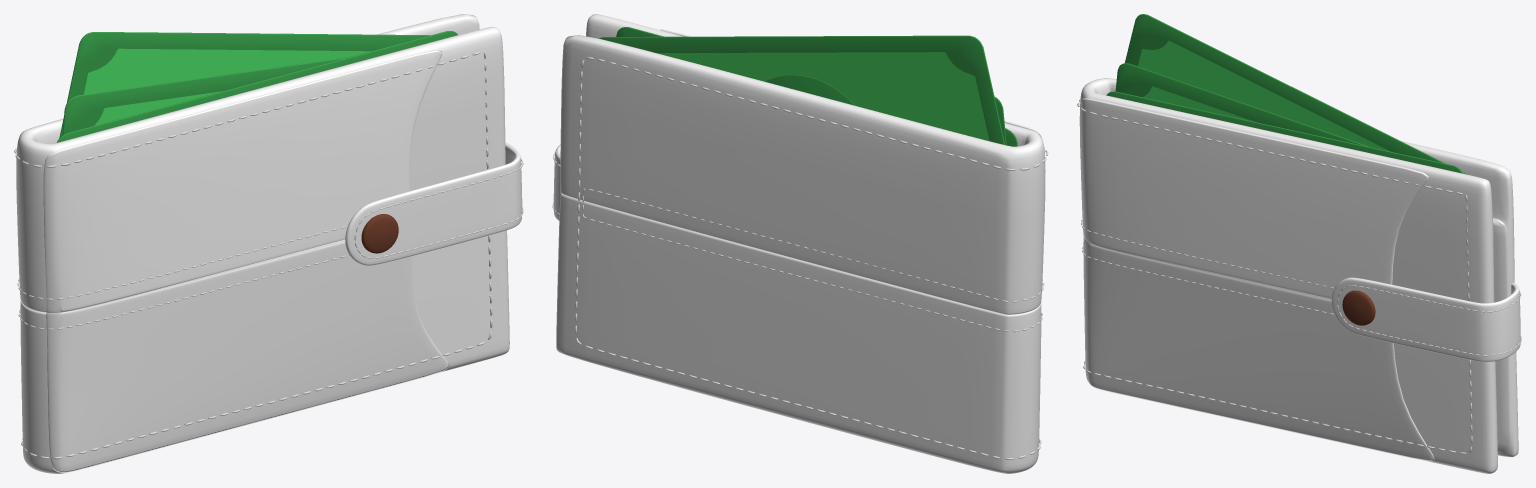
File: wallet-3d-animated-icon-1482219430963.glb
3 views of the same model, side by side, from view 1: azimuth 30°, elevation 25°; view 2: azimuth 150°, elevation 25°; view 3: azimuth 330°, elevation 25° (orthographic). The views are drawn at different scales.
Parts seen in each view (by area): view 1: Plane, Cube, Plane.003, Cube.003, Plane.002, Plane.004, Cube.002, Cylinder, Cube.001, Cube.004; view 2: Cube, Plane.003, Cube.002, Cube.001; view 3: Plane, Cube, Plane.003, Cube.003, Plane.002, Plane.004, Cube.002, Cylinder, Cube.001, Cube.004.
Part boxes in pixels (bbox=[...]): Plane: bbox=[43, 50, 449, 472]; Cube: bbox=[16, 14, 509, 473]; Plane.003: bbox=[59, 32, 430, 137]; Cube.003: bbox=[345, 142, 522, 265]; Plane.002: bbox=[62, 56, 350, 135]; Plane.004: bbox=[57, 31, 457, 142]; Cube.002: bbox=[14, 51, 492, 459]; Cylinder: bbox=[361, 214, 398, 253]; Cube.001: bbox=[17, 226, 349, 329]; Cube.004: bbox=[354, 158, 523, 258]; Cube: bbox=[556, 14, 1045, 473]; Plane.003: bbox=[599, 35, 1005, 144]; Cube.002: bbox=[574, 57, 1048, 459]; Cube.001: bbox=[582, 188, 1044, 332]; Plane: bbox=[1081, 98, 1434, 461]; Cube: bbox=[1079, 78, 1518, 473]; Plane.003: bbox=[1125, 14, 1467, 174]; Cube.003: bbox=[1331, 277, 1520, 361]; Plane.002: bbox=[1115, 63, 1371, 147]; Plane.004: bbox=[1106, 91, 1462, 173]; Cube.002: bbox=[1077, 99, 1472, 454]; Cylinder: bbox=[1342, 290, 1375, 325]; Cube.001: bbox=[1081, 219, 1334, 314]; Cube.004: bbox=[1337, 285, 1521, 356].
Size of the model in its own units: 2.15 by 1.76 by 0.3454.
